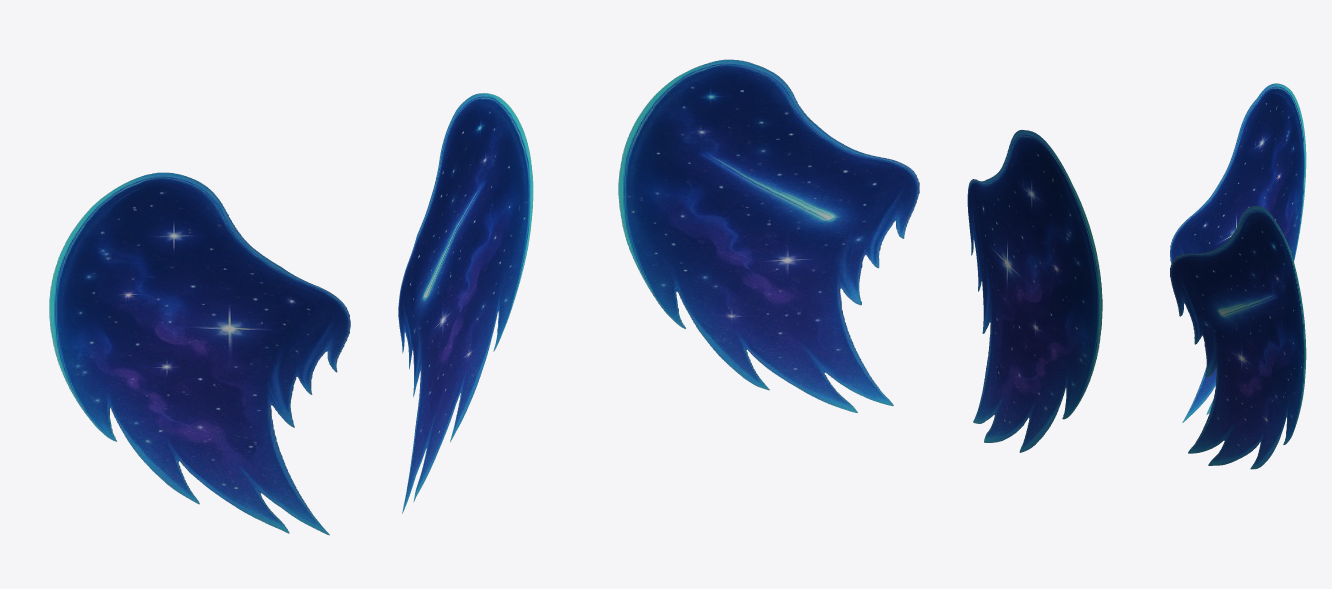
The model's file is canh2.fbx.
The picture shows the model from 3 angles, left to right: view 1: azimuth 30°, elevation 25°; view 2: azimuth 150°, elevation 25°; view 3: azimuth 270°, elevation 25°; orthographic projection. The views are drawn at different scales.
Visible parts, largest first — view 1: canh2; view 2: canh2; view 3: canh2.
Boxes of the visible parts, x1,y1,x2,y2 form: canh2: (49,93,533,535); canh2: (618,59,1102,452); canh2: (1170,83,1306,469).
Bounding box in the file's own units: 1.81 × 1.34 × 0.5832.
